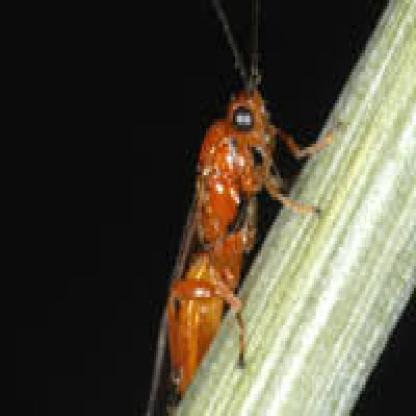sawfly: (144, 3, 335, 414)
